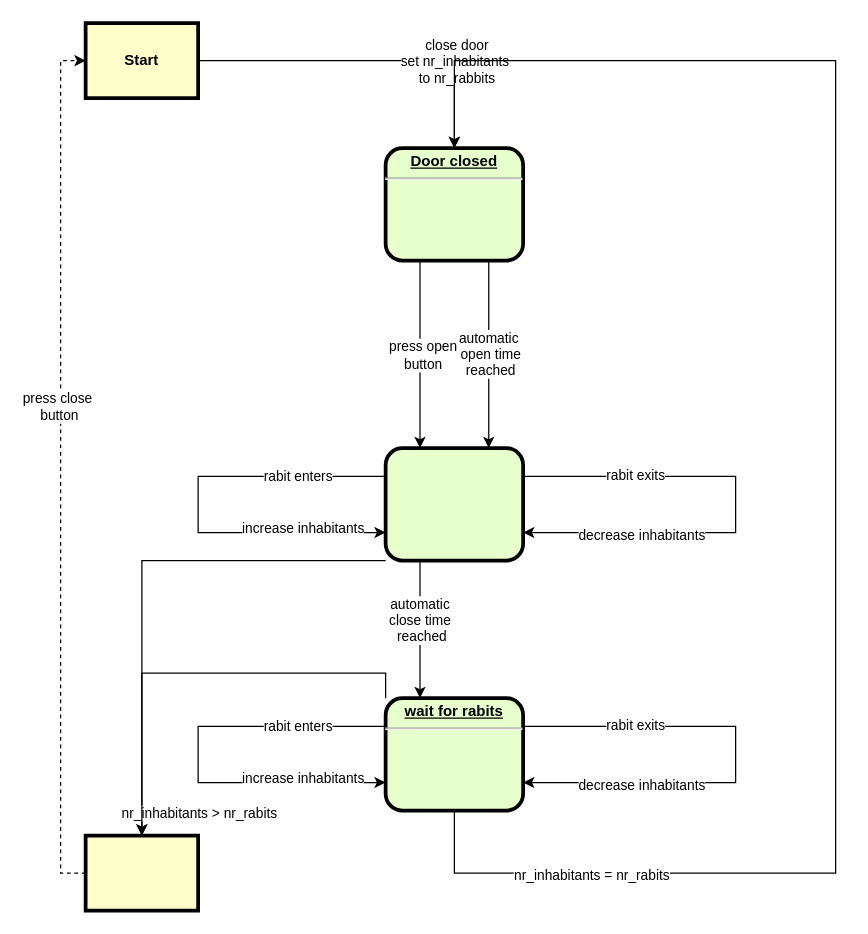
This 868x934 diagram has some shape labels left out. Each missing label, with the centre of its shape:
"Counting Error" goes at [141,872].
"Door open" goes at [453,504].
